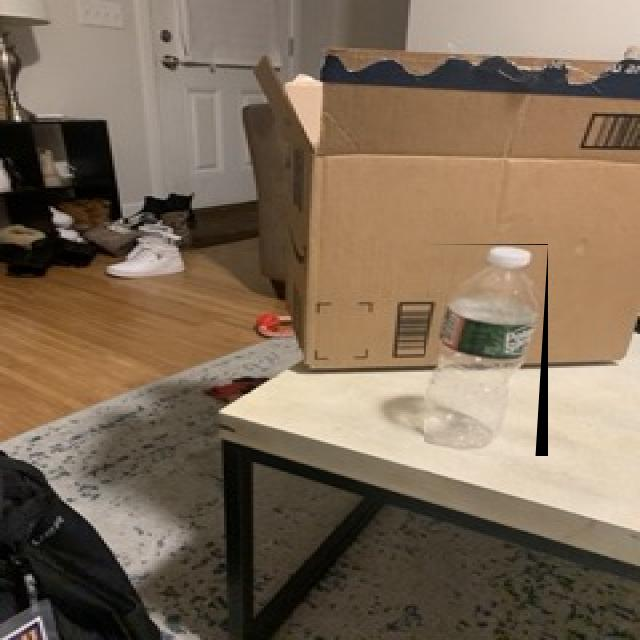water_bottle: (424, 244, 548, 456)
